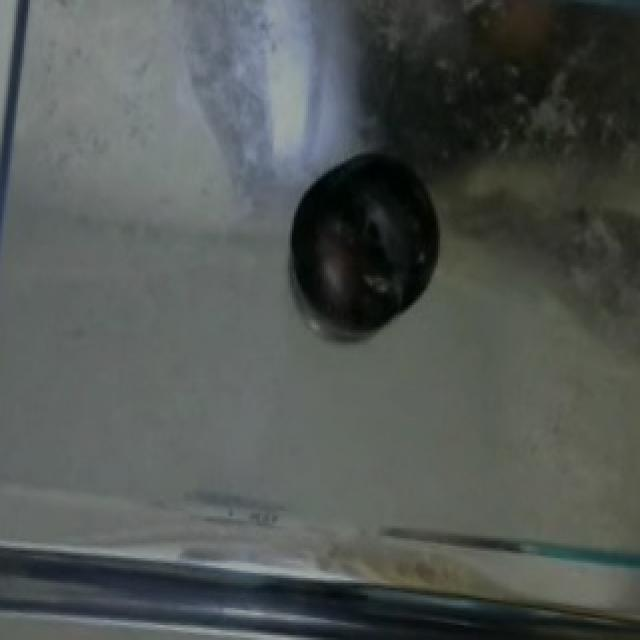Fruit: (268, 139, 458, 345)
